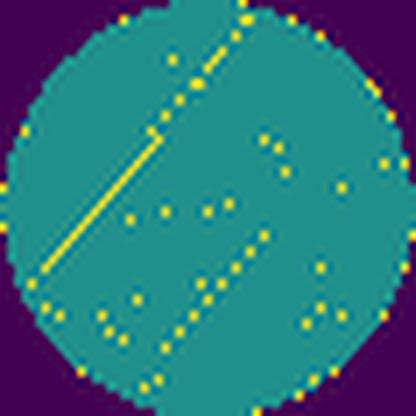Scratch: (36, 8, 257, 284), (156, 232, 276, 358)
